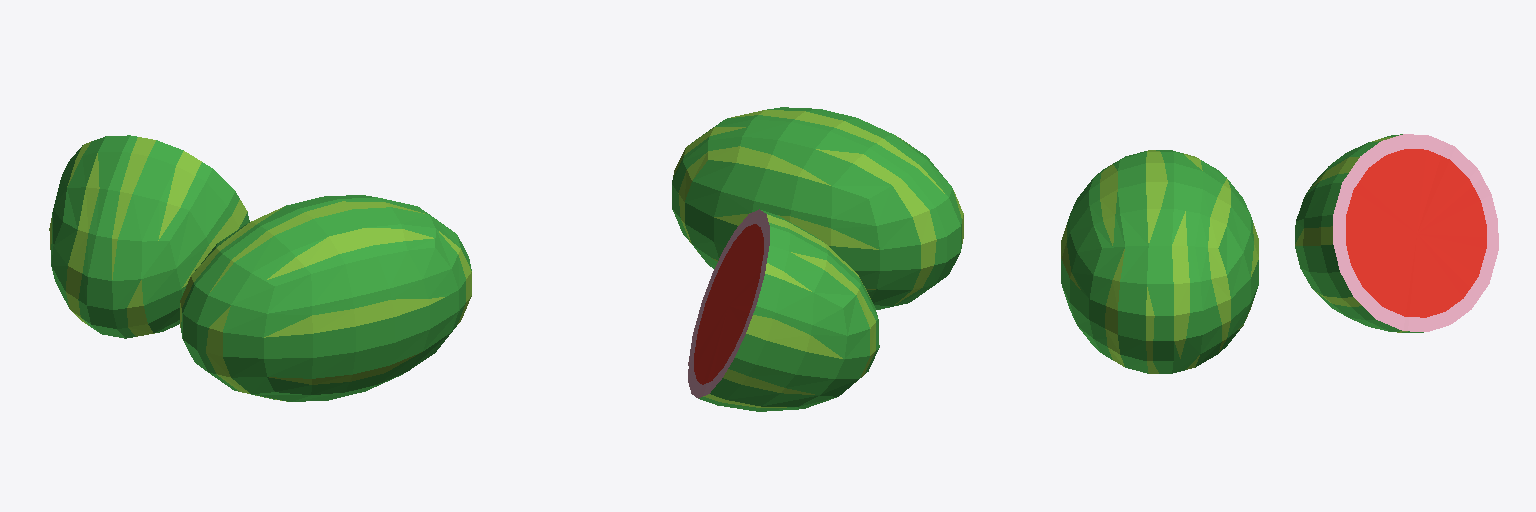
The model's file is Watermelon_01.obj.
3 renders of one model, left to right at view 1: azimuth 30°, elevation 25°; view 2: azimuth 150°, elevation 25°; view 3: azimuth 270°, elevation 25°, orthographic.
Visible parts, largest first — view 1: Roundcube.004; view 2: Roundcube.004; view 3: Roundcube.004.
Boxes of the visible parts, <box> form: Roundcube.004: <box>49,135,471,401</box>; Roundcube.004: <box>672,107,963,411</box>; Roundcube.004: <box>1061,134,1498,373</box>.
Bounding box in the file's own units: 8.34 × 4.95 × 10.79.